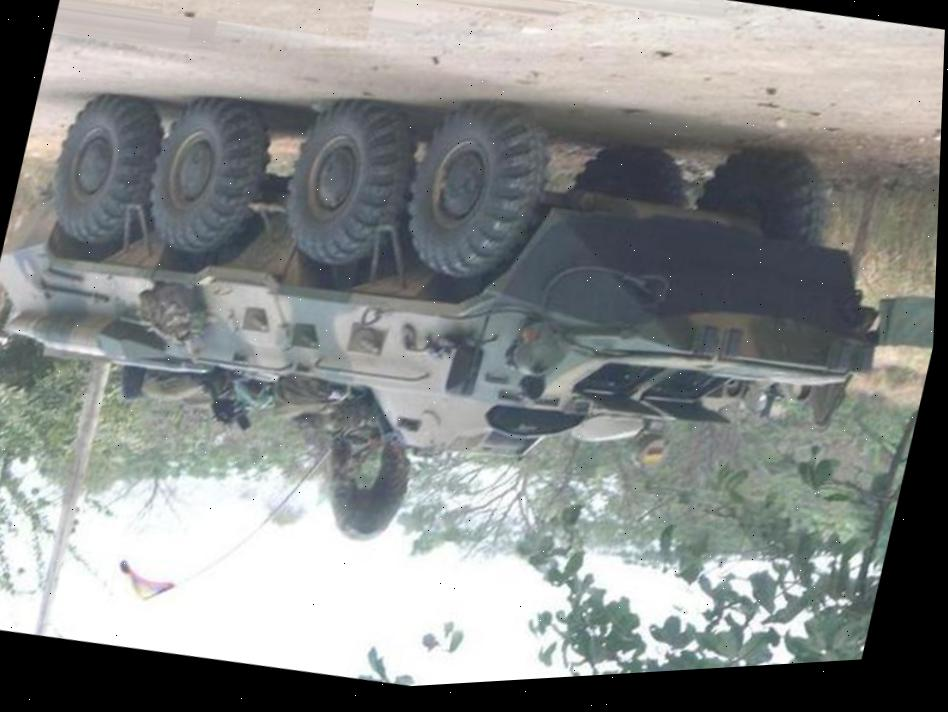tank: (0, 0, 929, 567)
